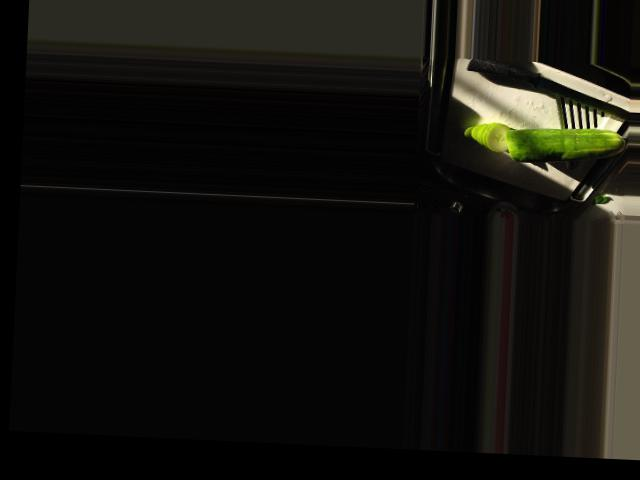cucumber: (503, 124, 625, 166)
